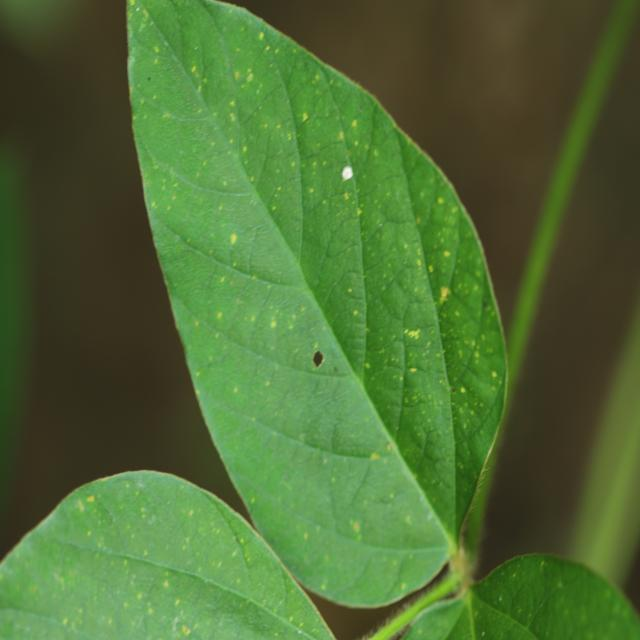Soybean: (0, 0, 640, 640)
downey_mildew: (234, 22, 375, 399), (216, 409, 442, 608), (130, 11, 271, 285), (61, 479, 264, 619), (205, 309, 389, 459), (375, 229, 449, 448), (303, 158, 371, 367), (160, 181, 288, 290), (88, 553, 231, 639), (212, 12, 296, 156), (3, 527, 122, 628), (325, 188, 429, 303), (207, 274, 322, 370), (327, 453, 434, 553), (276, 44, 349, 188), (167, 571, 321, 639), (243, 87, 305, 253), (359, 104, 424, 249), (134, 26, 211, 137), (163, 495, 249, 591), (359, 212, 426, 329), (412, 160, 464, 296), (166, 129, 250, 211), (449, 342, 505, 460), (436, 253, 487, 382), (297, 130, 362, 230), (467, 560, 553, 632), (290, 379, 374, 451), (173, 6, 227, 105), (398, 324, 450, 417), (233, 202, 292, 279), (364, 337, 407, 431), (59, 489, 123, 551), (193, 329, 247, 380), (231, 524, 273, 587), (239, 79, 290, 130), (346, 456, 379, 526), (357, 210, 403, 260), (470, 311, 503, 378), (359, 173, 408, 217), (401, 299, 441, 349), (324, 219, 363, 262), (528, 598, 560, 640), (418, 439, 445, 474)
